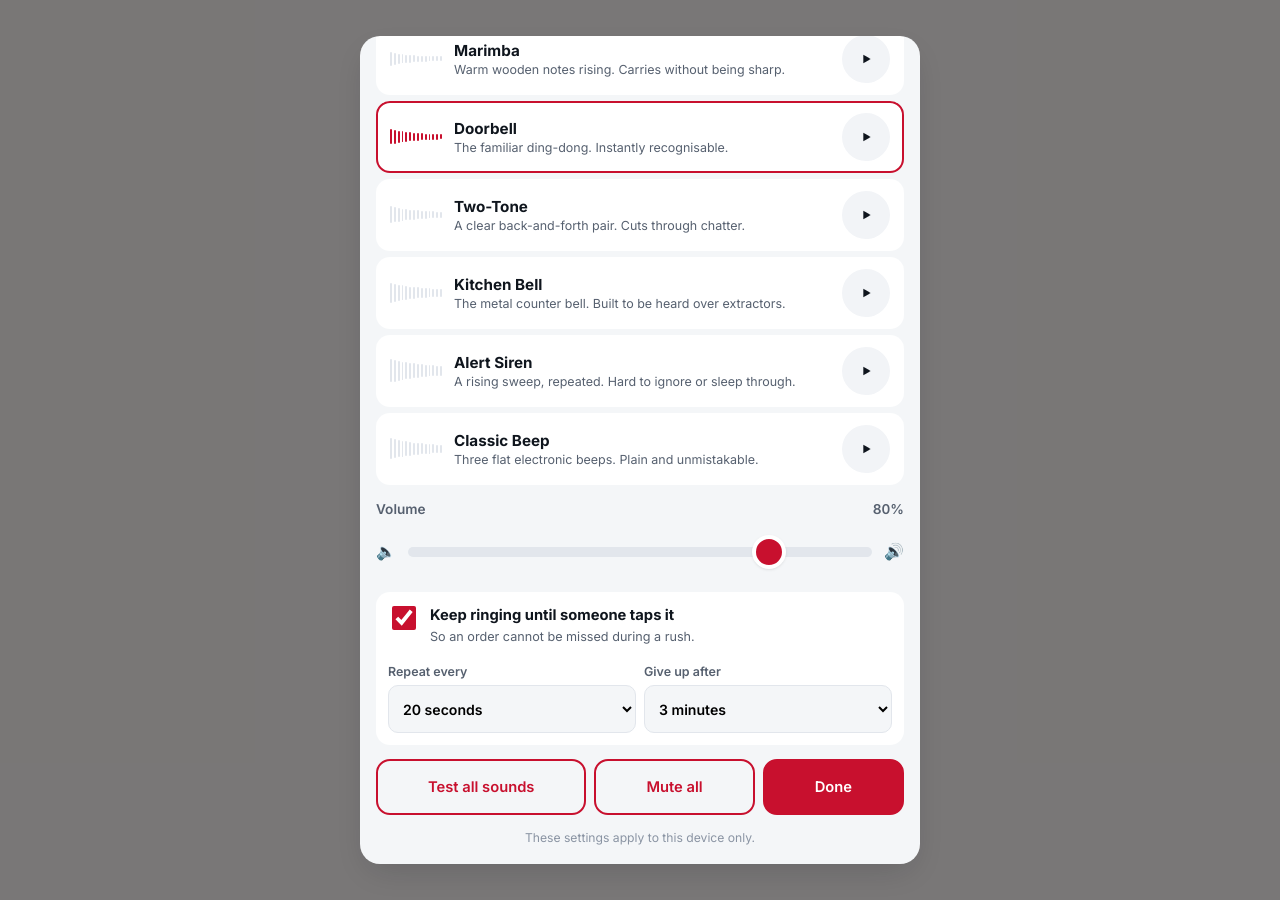
Test case: mute › muting is never silent about itself
The image size is (1280, 900).
(page scrolled)
What coordinates should you click on to do the following:
click the button "Mute all"
I would click on:
 (675, 787)
Its box is [594,759,755,815].
(page scrolled)
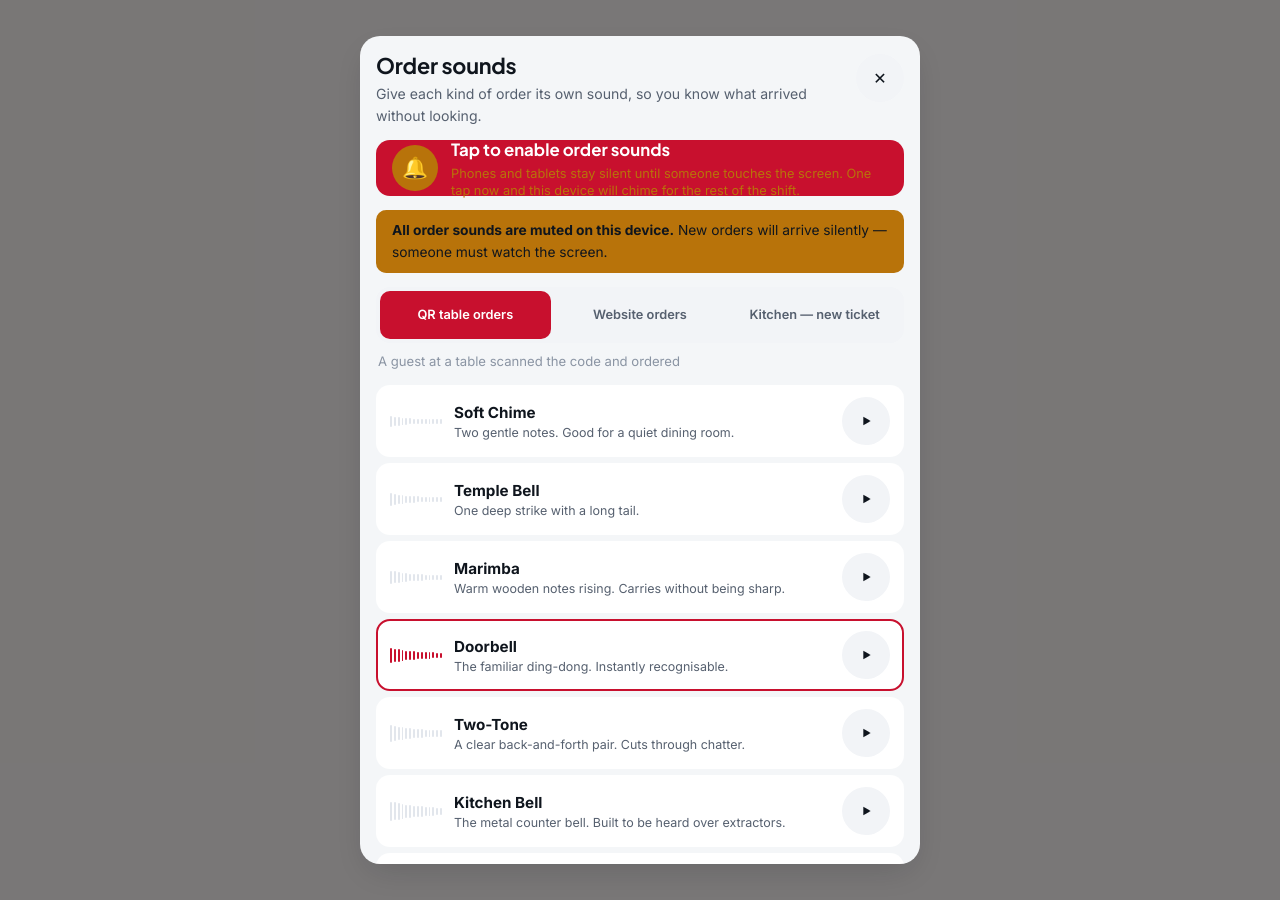
expect the text "All order sounds are muted on this device." is shown: met, box [392,222,674,238]
expect the text "New orders will arrive silently" is shown: met, box [392,222,887,260]
